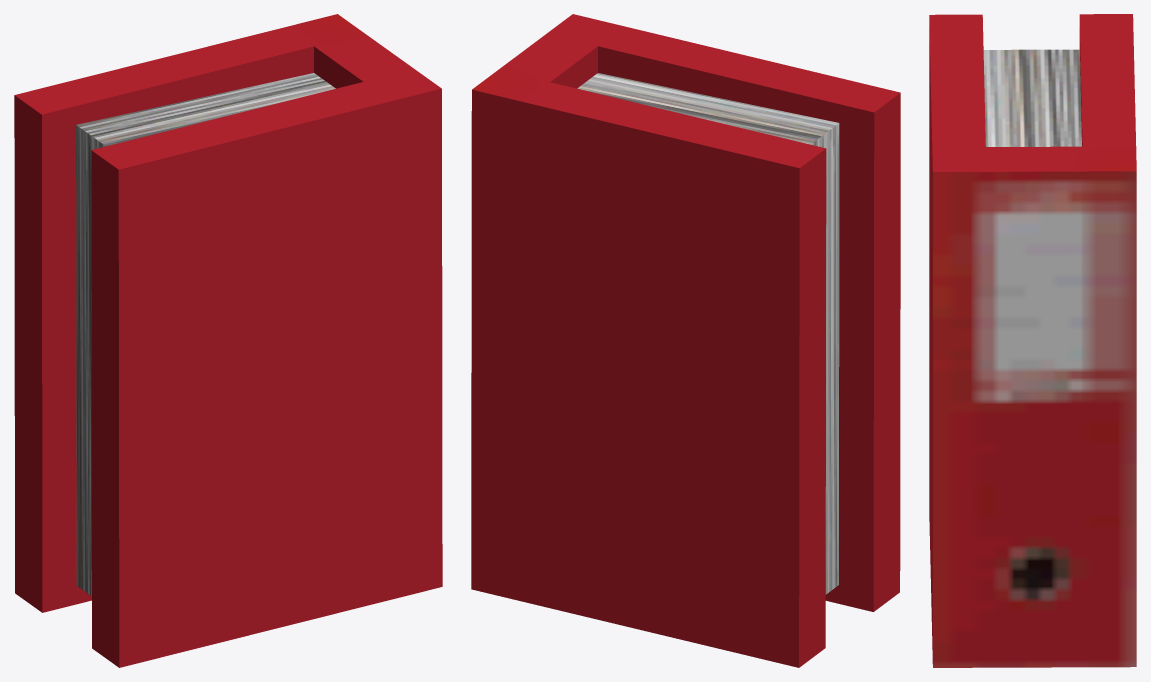
The model's file is object_22_lev1.glb.
3 views of the same model, side by side, from view 1: azimuth 30°, elevation 25°; view 2: azimuth 150°, elevation 25°; view 3: azimuth 270°, elevation 25° (orthographic).
Visible parts, largest first — view 1: object_22_lev1; view 2: object_22_lev1; view 3: object_22_lev1.
Part boxes in pixels (x1,y1,x2,y2): object_22_lev1: (14, 14, 442, 667); object_22_lev1: (471, 14, 900, 667); object_22_lev1: (929, 14, 1136, 667).
Size of the model in its own units: 0.2209 by 0.3216 by 0.122.
Materials: 1 (1 with a texture image).
